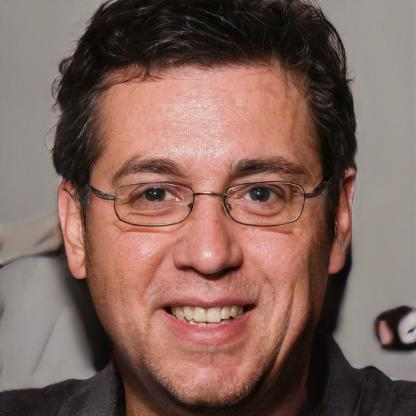glasses: (90, 173, 324, 234)
